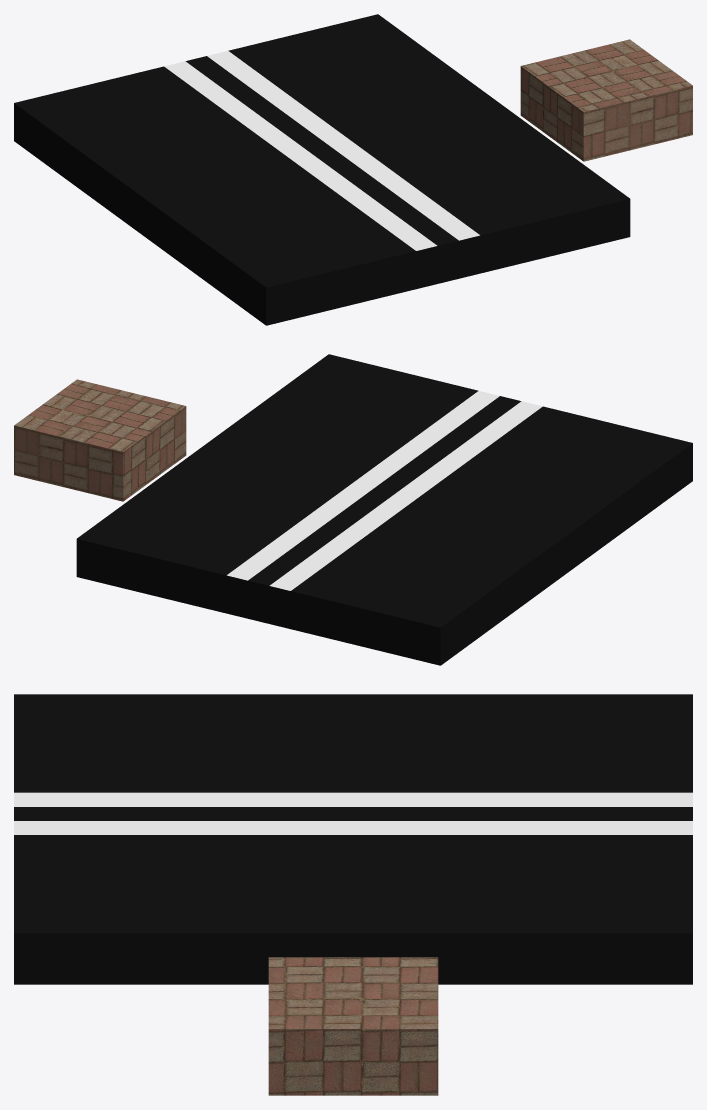
The model's file is jalan_aspal.gltf.
The picture shows the model from 3 angles, top to bottom: view 1: azimuth 30°, elevation 25°; view 2: azimuth 150°, elevation 25°; view 3: azimuth 270°, elevation 25°; orthographic projection. The views are drawn at different scales.
Visible parts, largest first — view 1: Cube, Cube.001; view 2: Cube, Cube.001; view 3: Cube, Cube.001.
Part boxes in pixels (<box>): Cube: <box>14,14,630,325</box>; Cube.001: <box>520,39,692,161</box>; Cube: <box>76,354,692,665</box>; Cube.001: <box>14,379,186,501</box>; Cube: <box>14,694,692,984</box>; Cube.001: <box>268,957,438,1095</box>.
Bounding box in the file's own units: 28.63 × 2.6 × 24.
Materials: 3 (1 with a texture image).
